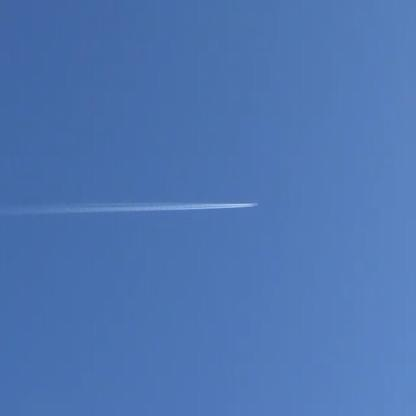CIV_Plane: (250, 198, 262, 210)
